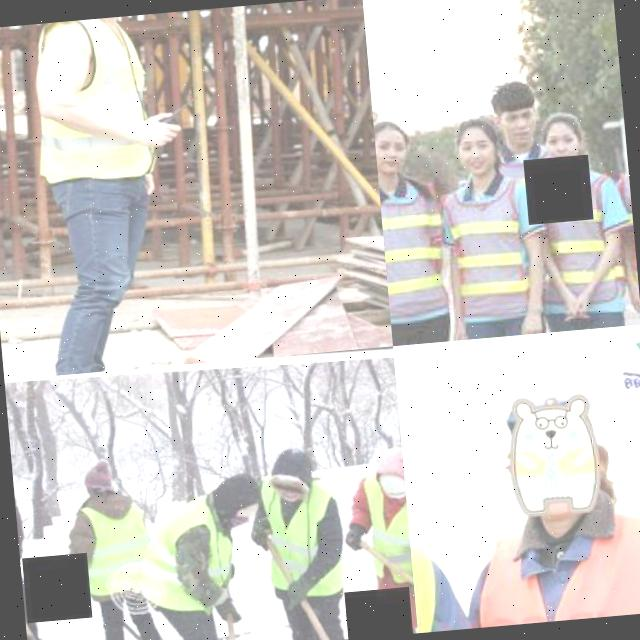vest: (38, 15, 152, 181), (476, 512, 640, 626), (439, 180, 544, 318), (536, 170, 630, 310), (144, 496, 242, 620), (260, 477, 349, 598), (379, 189, 452, 299), (78, 496, 153, 601), (360, 468, 412, 578)
